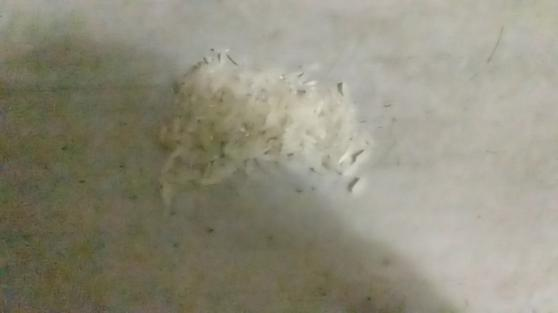rice: (145, 44, 382, 206)
